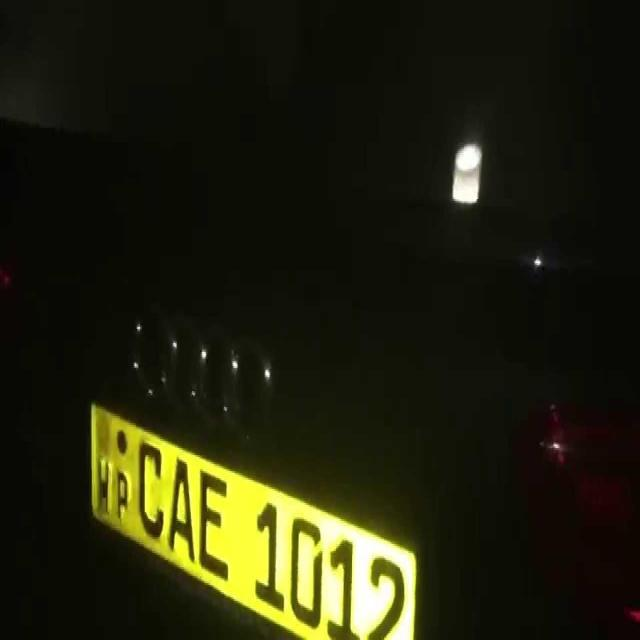license-plate: (88, 401, 416, 639)
